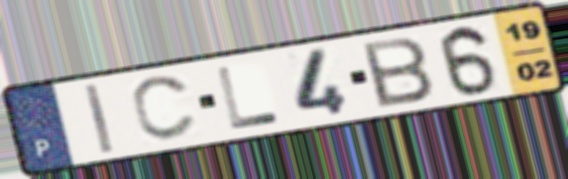4: (291, 44, 357, 120)
6: (436, 23, 500, 97)
B: (357, 34, 437, 110)
C: (128, 72, 200, 143)
I: (81, 81, 117, 156)
L: (214, 64, 285, 132)
